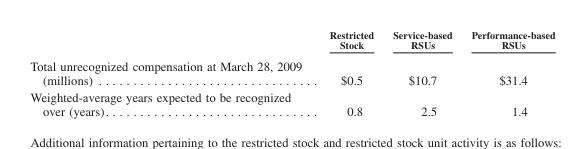table: (29, 28, 554, 118)
table column: (29, 28, 315, 118), (461, 28, 554, 118), (382, 28, 461, 118), (315, 28, 382, 118)
table column header: (29, 28, 554, 54)
table row: (29, 54, 554, 88), (29, 88, 554, 118), (29, 28, 554, 54)
